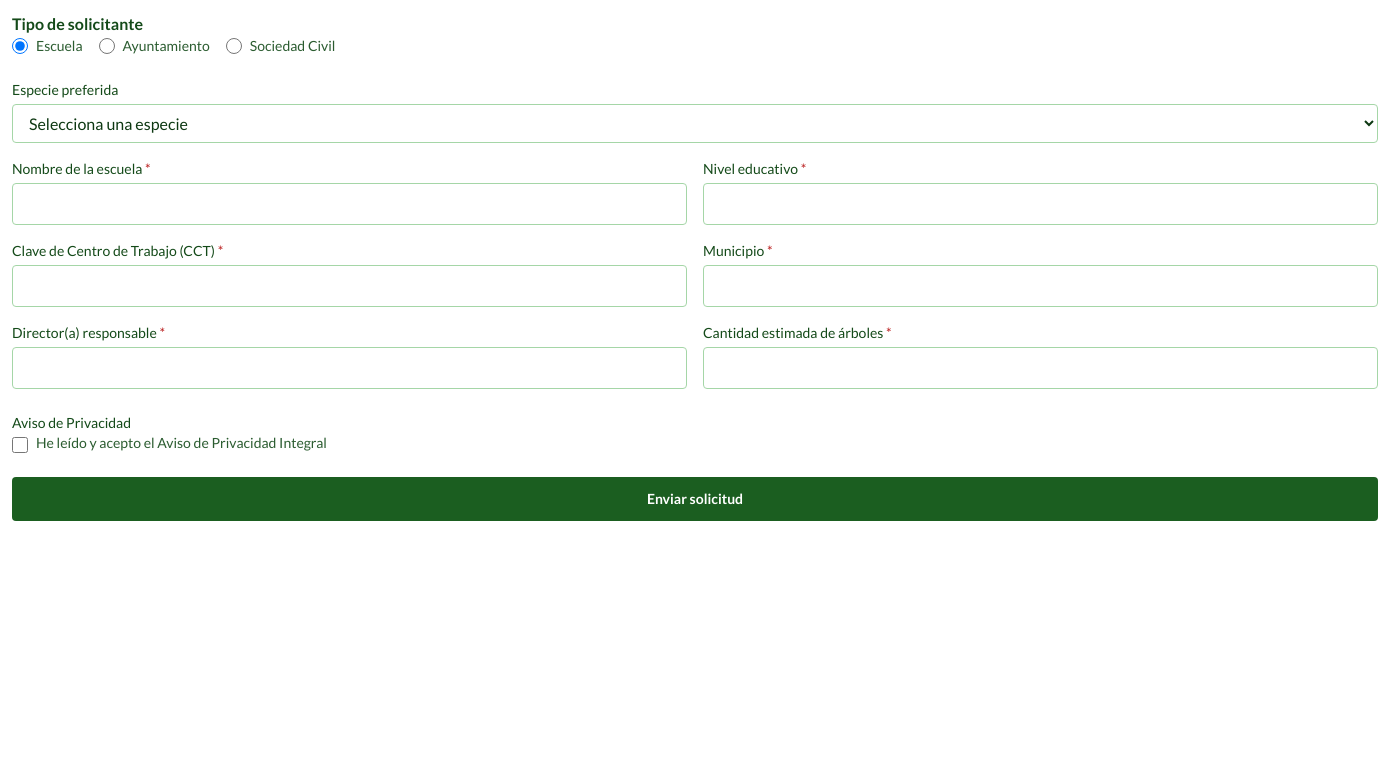
Scenario: RequestForm › muestra errores de validación al enviar sin datos
Click the button "Enviar solicitud".
click(695, 499)  # box [12, 477, 1378, 521]
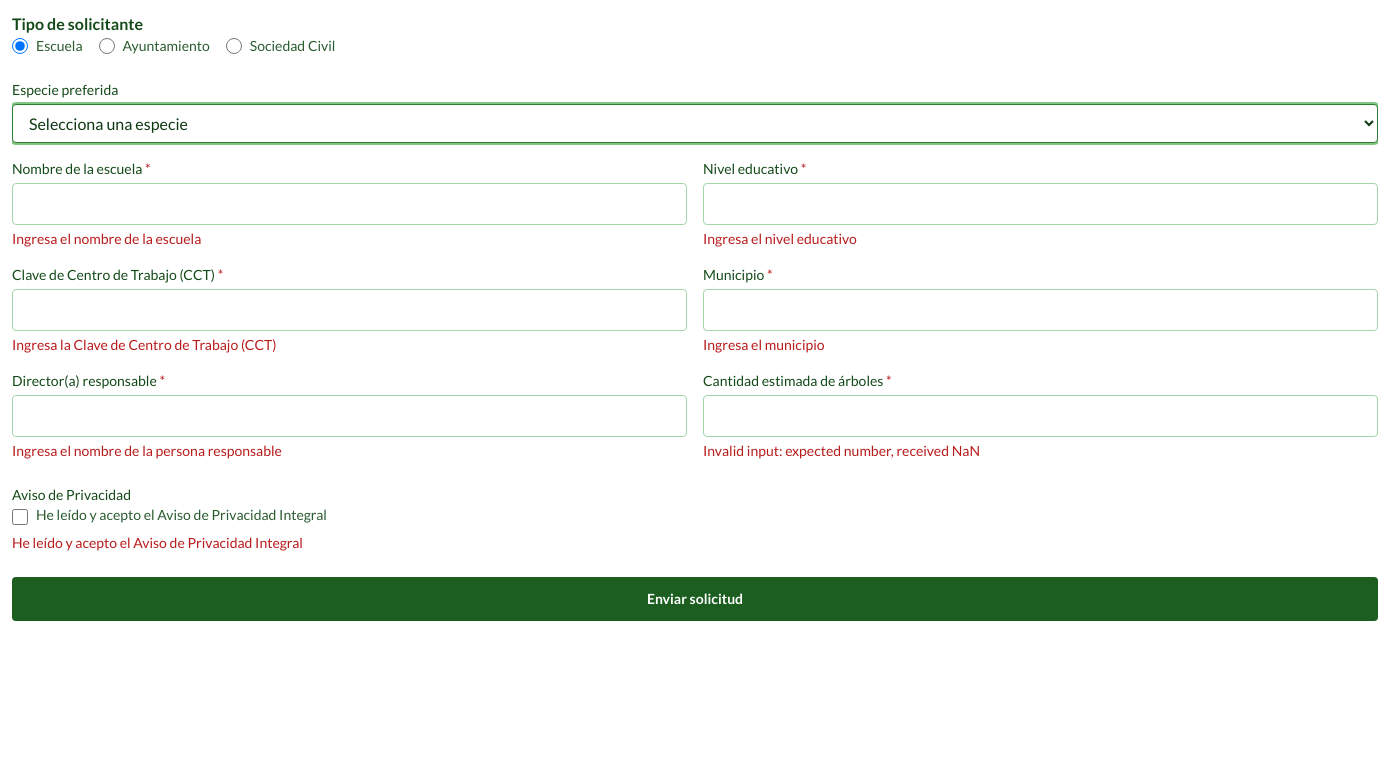
Check: the message "Ingresa el nombre de la escuela" is shown, box [12, 230, 201, 247]
